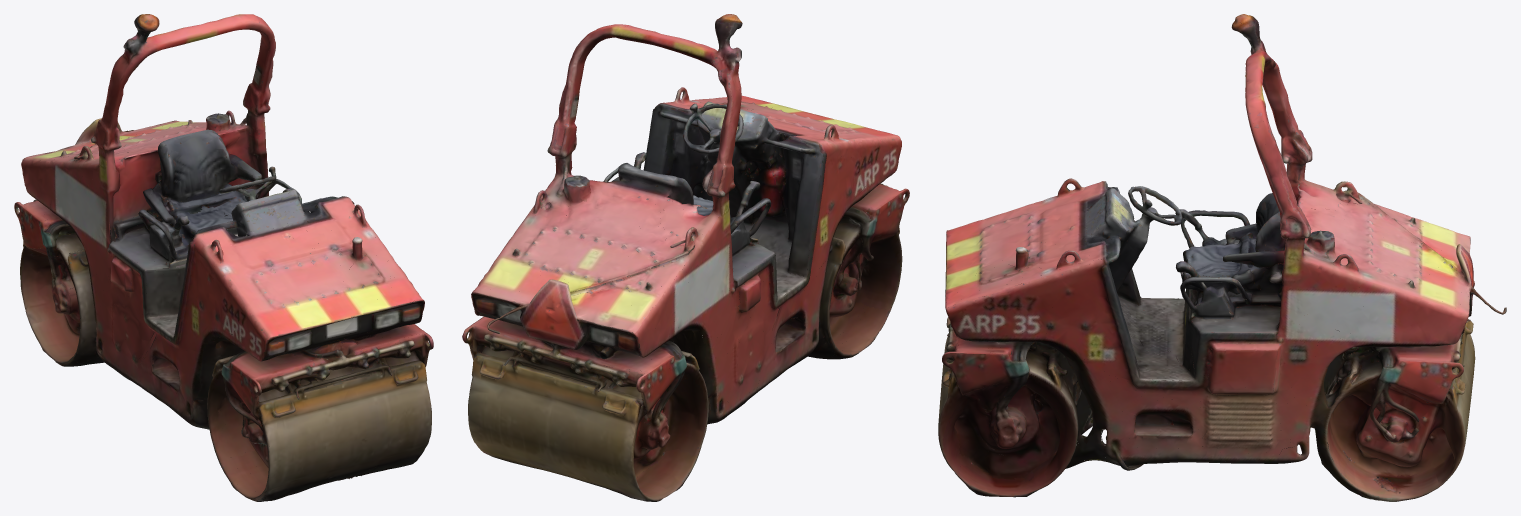
Rendered from roller-tandem.glb.
The picture shows the model from 3 angles, left to right: view 1: azimuth 30°, elevation 25°; view 2: azimuth 150°, elevation 25°; view 3: azimuth 270°, elevation 25°; orthographic projection. The views are drawn at different scales.
Visible parts, largest first — view 1: Object_2, Object_4, Object_3, Object_6, Object_5; view 2: Object_5, Object_2, Object_4, Object_3, Object_6; view 3: Object_4, Object_3, Object_5, Object_2, Object_6.
Boxes of the visible parts, x1,y1,x2,y2 form: Object_2: (21, 14, 431, 501); Object_4: (17, 16, 358, 469); Object_3: (67, 14, 433, 501); Object_6: (65, 38, 301, 424); Object_5: (14, 113, 268, 366); Object_5: (462, 156, 728, 501); Object_2: (612, 14, 909, 421); Object_4: (471, 26, 846, 501); Object_3: (481, 16, 890, 493); Object_6: (547, 40, 813, 387); Object_4: (1003, 93, 1489, 496); Object_3: (942, 17, 1419, 501); Object_5: (1141, 189, 1506, 501); Object_2: (938, 14, 1452, 491); Object_6: (1066, 129, 1383, 469).
Size of the model in its own units: 2.54 by 5.37 by 6.64.
1 material, 1 textured.
